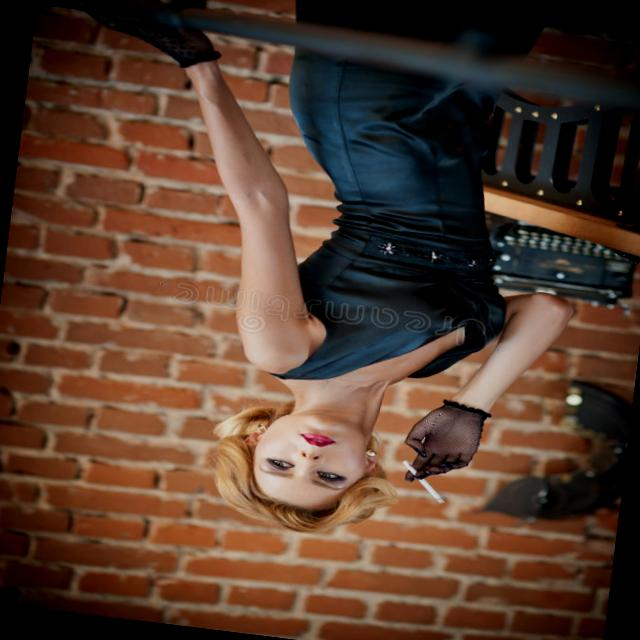cigarette: (386, 456, 452, 502)
